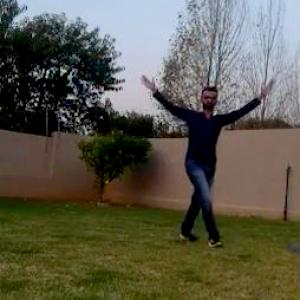takeoff: (138, 76, 278, 242)
